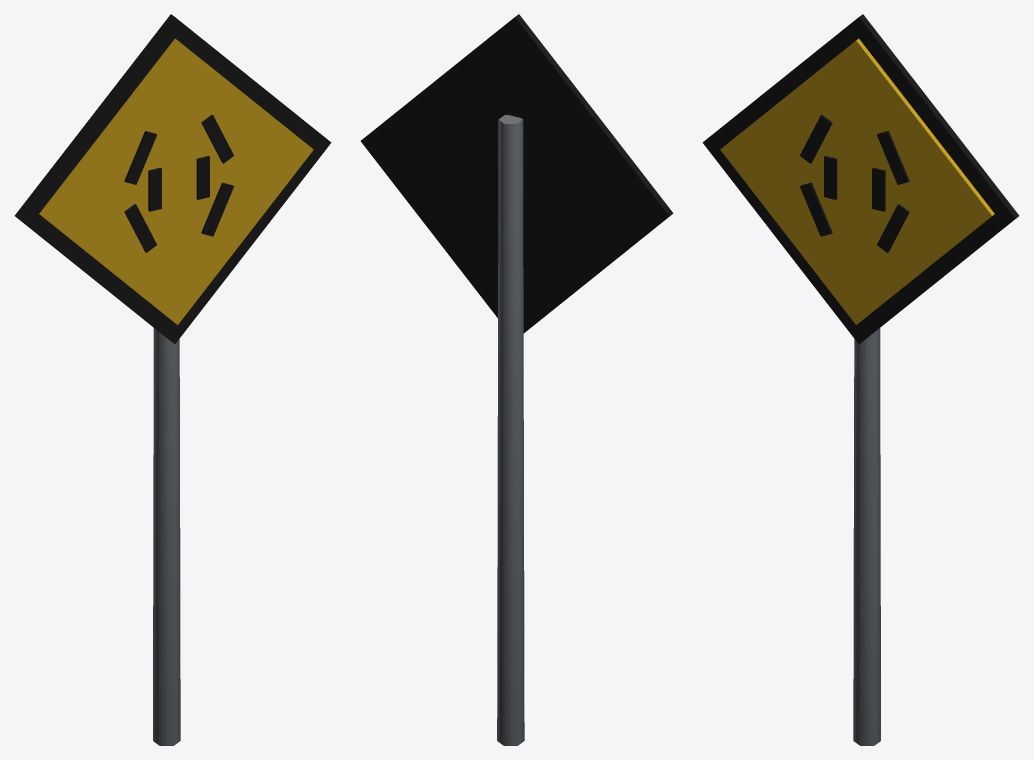
File: placa_ponte_estreita.glb
3 views of the same model, side by side, from view 1: azimuth 30°, elevation 25°; view 2: azimuth 150°, elevation 25°; view 3: azimuth 330°, elevation 25° (orthographic).
Parts seen in each view (by area): view 1: placa_ponte_estreita_liso; view 2: placa_ponte_estreita_liso; view 3: placa_ponte_estreita_liso.
Boxes of the visible parts, x1,y1,x2,y2 form: placa_ponte_estreita_liso: (14,14,331,745); placa_ponte_estreita_liso: (360,14,673,745); placa_ponte_estreita_liso: (702,14,1019,745).
Size of the model in its own units: 1.3 by 2.9 by 0.145.
